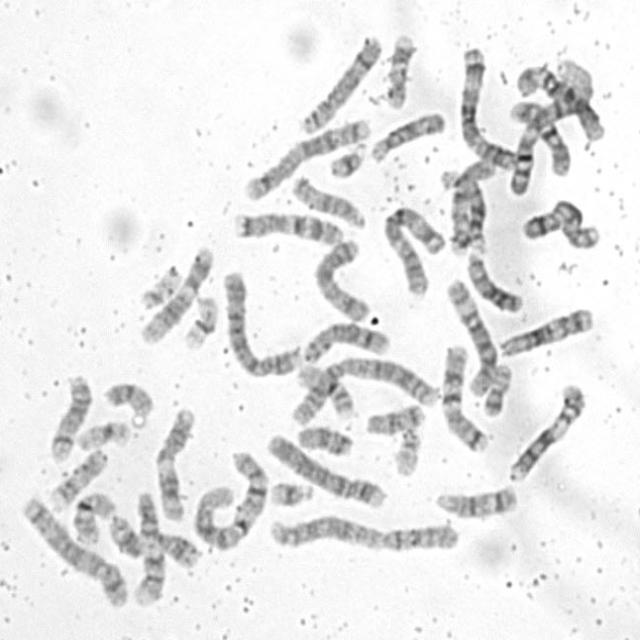A1: (506, 53, 596, 199), (188, 443, 272, 551)
A2: (286, 350, 441, 426), (262, 507, 463, 554)
A3: (454, 41, 518, 172), (378, 200, 447, 297)
B4: (260, 428, 388, 510), (218, 265, 301, 379)
B5: (17, 490, 131, 610), (239, 112, 372, 202)
C10: (504, 92, 573, 180), (447, 155, 499, 258)
C11: (105, 510, 203, 570), (151, 402, 198, 522)
C12: (136, 240, 216, 346), (494, 302, 596, 358)
C6: (512, 57, 606, 142), (443, 274, 499, 397)
C7: (436, 340, 491, 454), (229, 205, 345, 248)
C8: (296, 28, 384, 136), (299, 317, 392, 364)
C9: (506, 377, 590, 483), (131, 487, 167, 608)
D13: (461, 245, 524, 315), (439, 167, 488, 256)
D14: (45, 368, 94, 464), (432, 480, 521, 520)
D15: (286, 169, 368, 230), (366, 105, 448, 164)
E16: (293, 360, 358, 420), (67, 486, 118, 547)
E17: (46, 444, 110, 512), (382, 27, 417, 110)
E18: (362, 398, 426, 437), (293, 420, 356, 459)
F19: (178, 289, 221, 352), (73, 416, 133, 452)
F20: (100, 376, 156, 417), (479, 358, 514, 419)
G21: (325, 136, 369, 180), (266, 475, 316, 508)
G22: (135, 260, 183, 311), (389, 423, 423, 478)
X: (311, 234, 373, 324), (516, 194, 602, 252)
